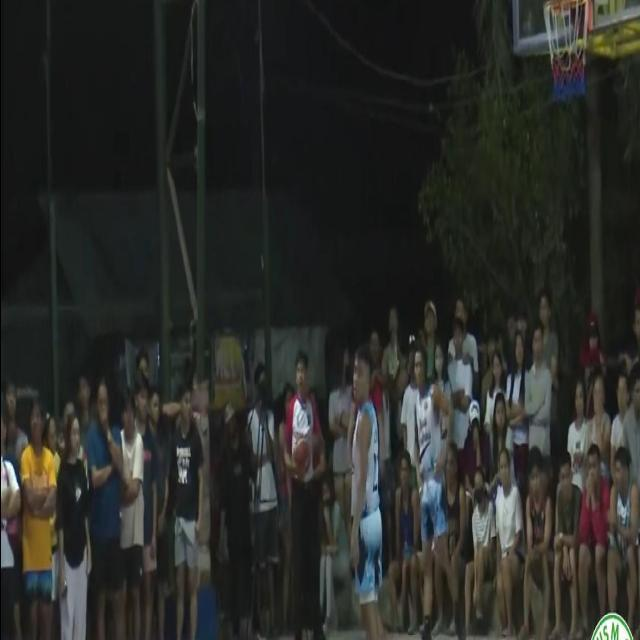basketball: (289, 436, 311, 483)
hoop: (541, 0, 598, 123)
